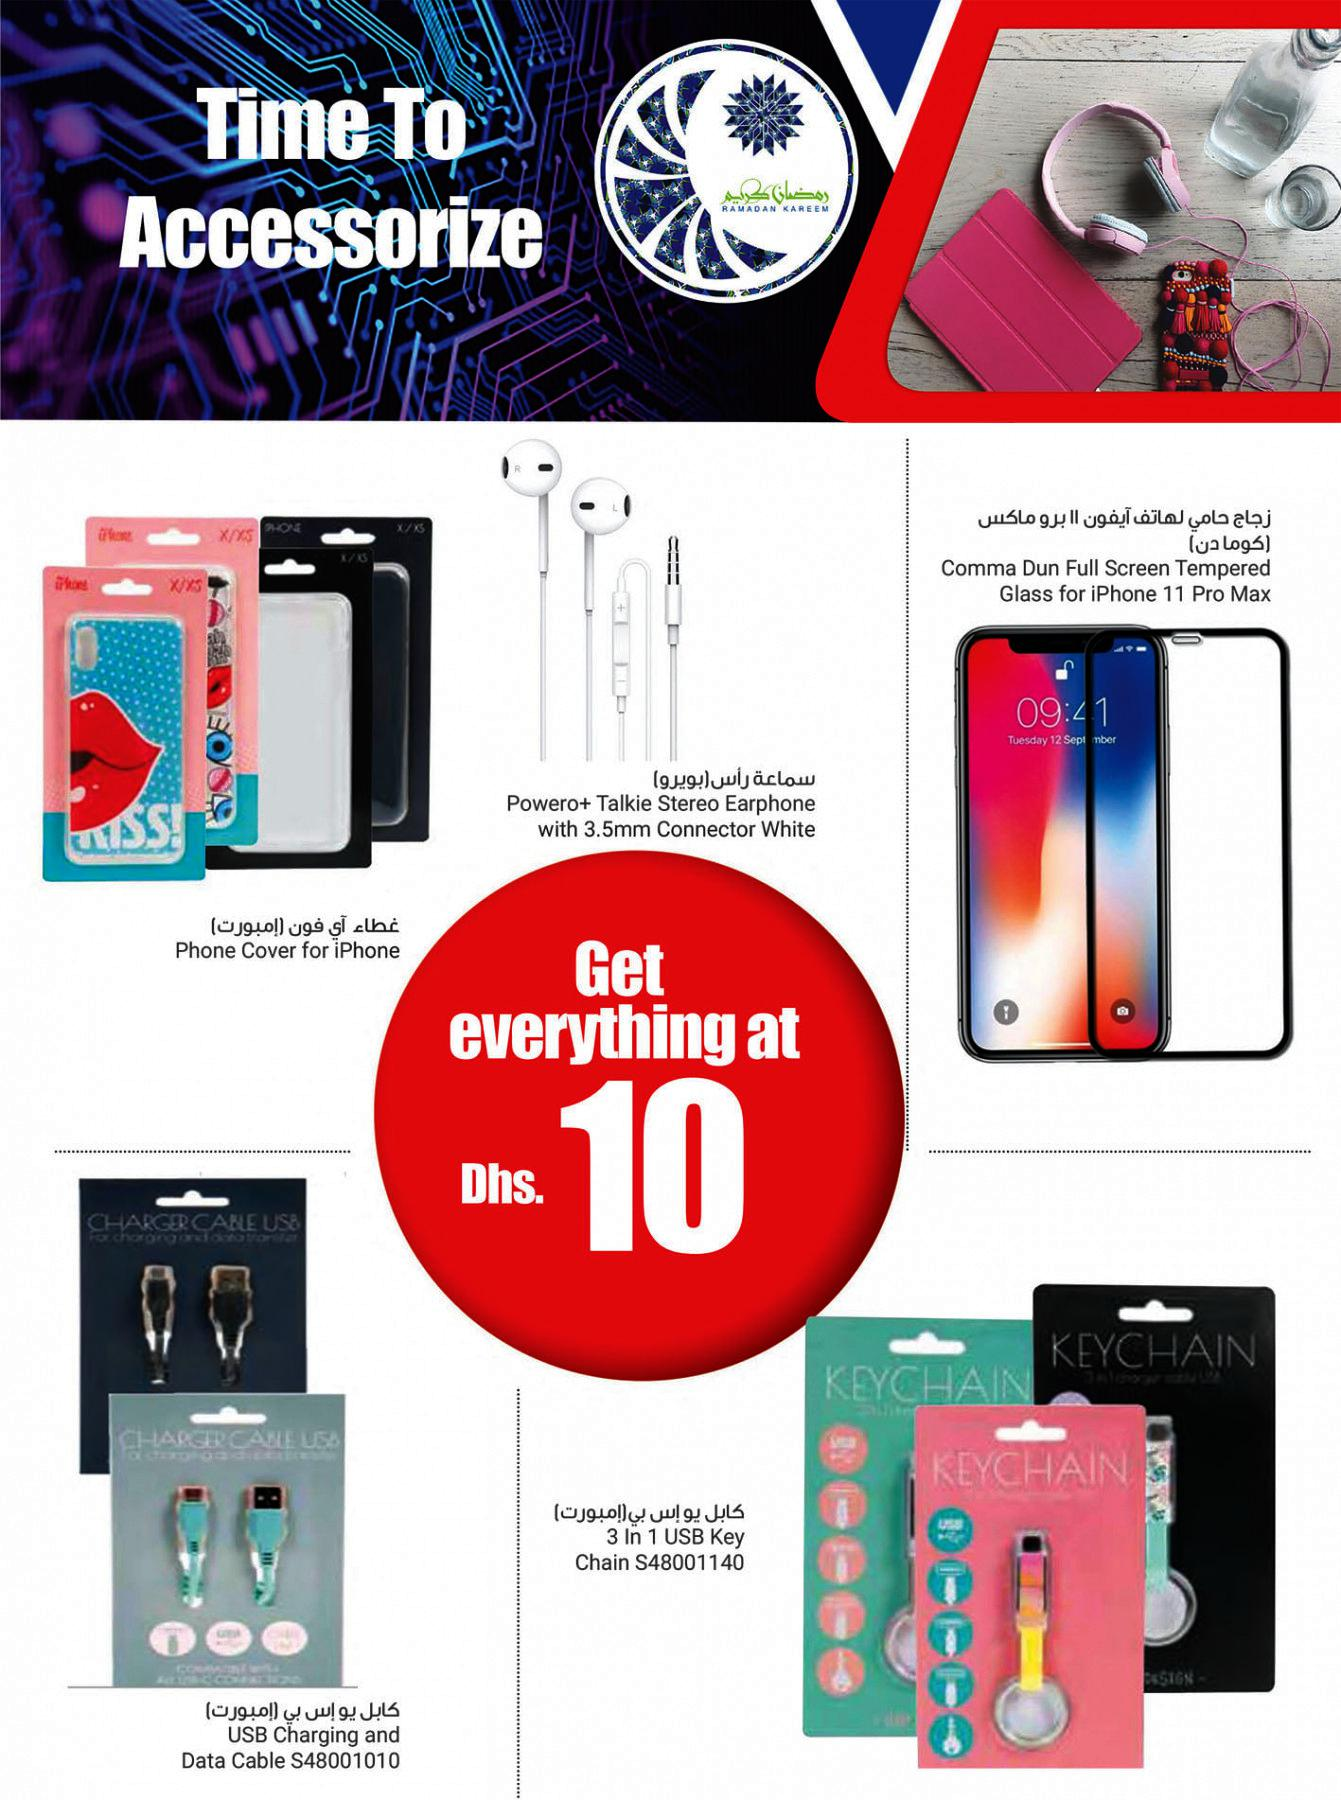text: (933, 501, 1285, 613), (490, 756, 832, 848), (168, 1690, 410, 1777), (539, 1494, 759, 1579), (161, 906, 411, 972)
